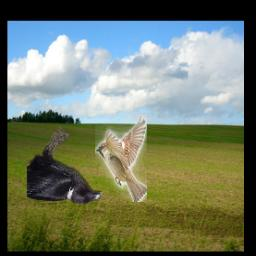Crow: (28, 126, 103, 204)
Sparrow: (95, 115, 147, 203)
